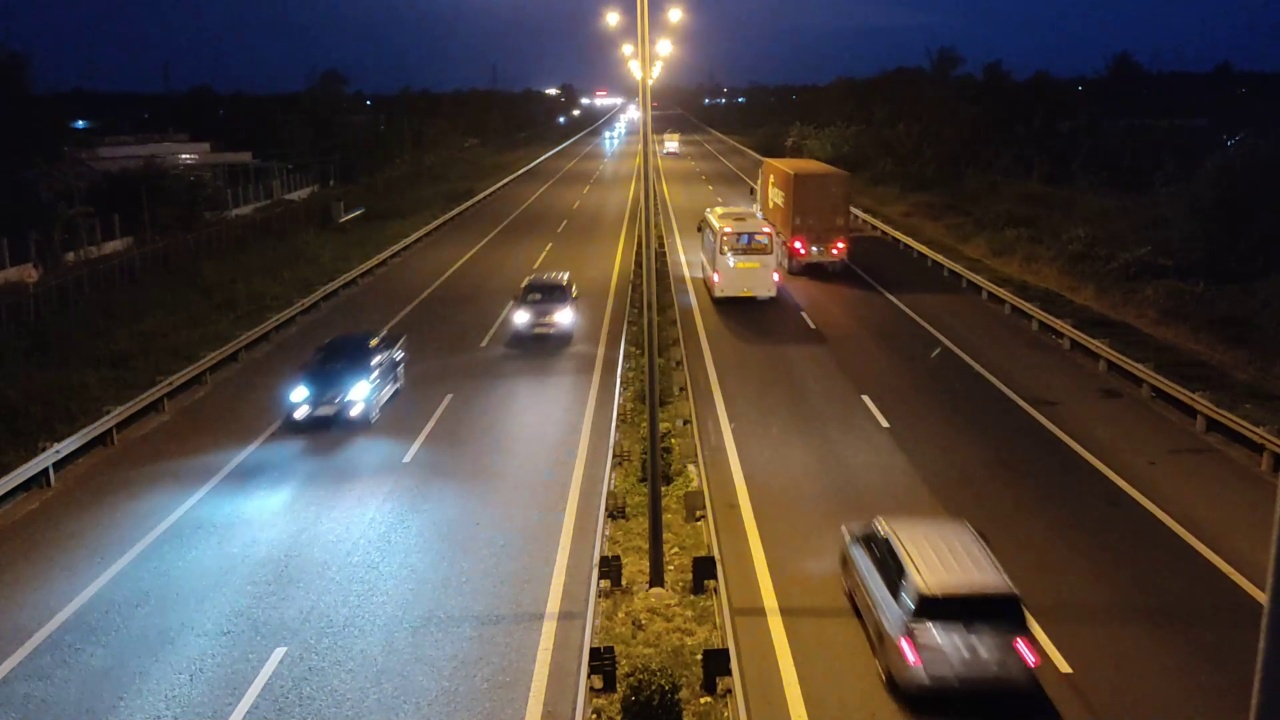bus: (697, 205, 781, 301)
car: (834, 502, 1047, 692), (282, 330, 408, 430), (506, 270, 580, 347)
truck: (755, 156, 853, 276)
